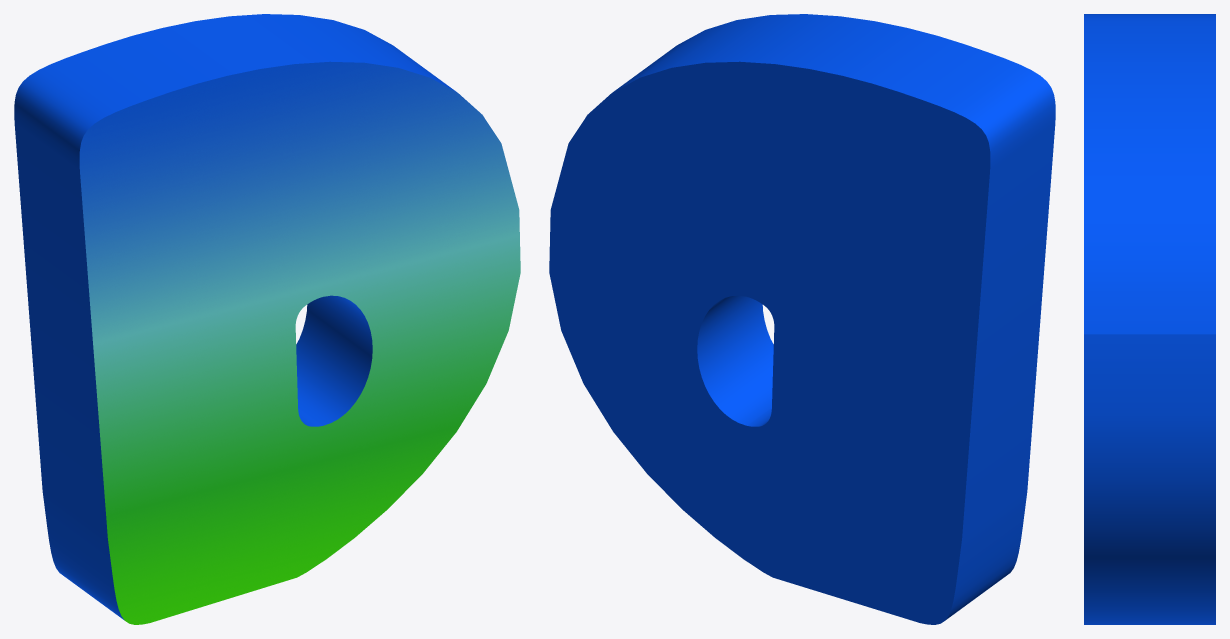
3 renders of one model, left to right at view 1: azimuth 30°, elevation 25°; view 2: azimuth 150°, elevation 25°; view 3: azimuth 270°, elevation 25°, orthographic.
Parts seen in each view (by area): view 1: D; view 2: D; view 3: D.
Part boxes in pixels (x1=…): D: x1=14, y1=14, x2=520, y2=624; D: x1=549, y1=14, x2=1055, y2=624; D: x1=1084, y1=14, x2=1215, y2=624.
Size of the model in its own units: 78.02 by 89.28 by 20.
Materials: 2 (1 with a texture image).
